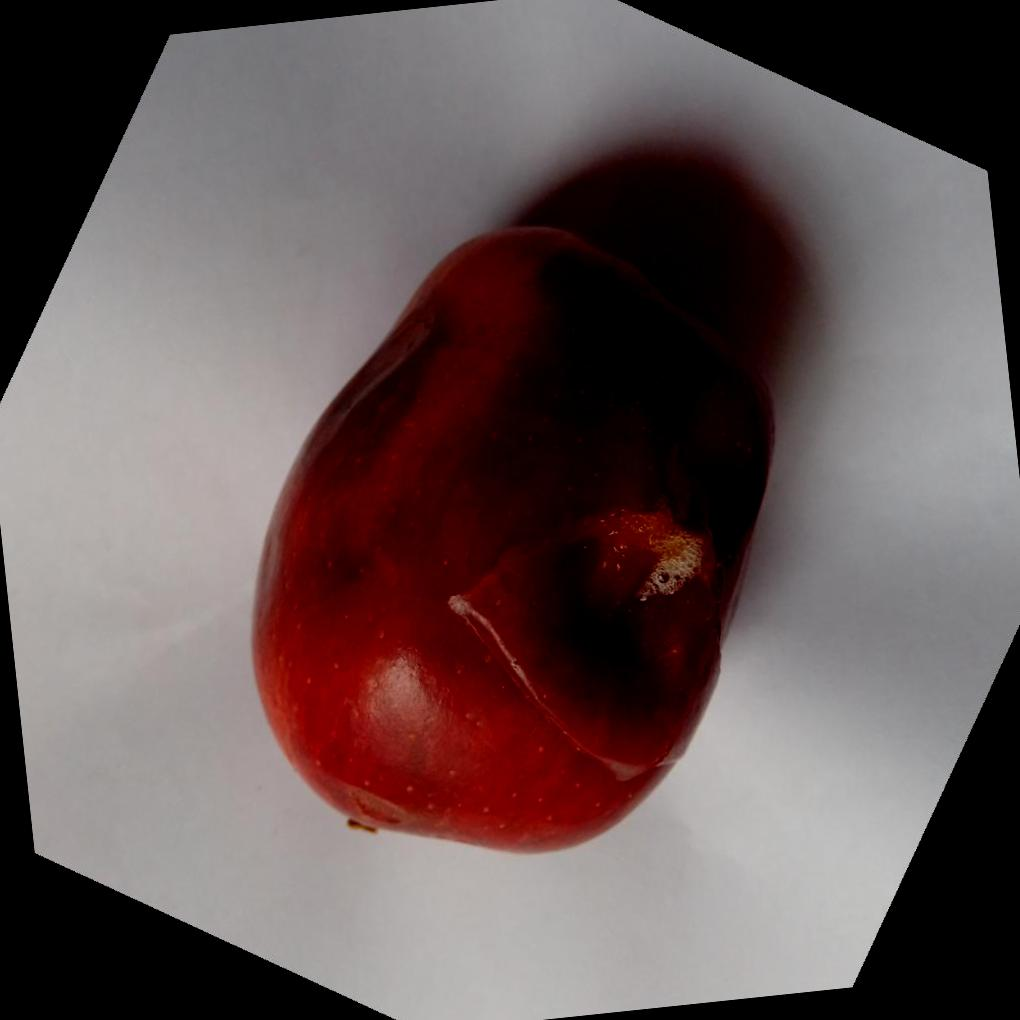FreshOrange: (248, 218, 776, 850)
